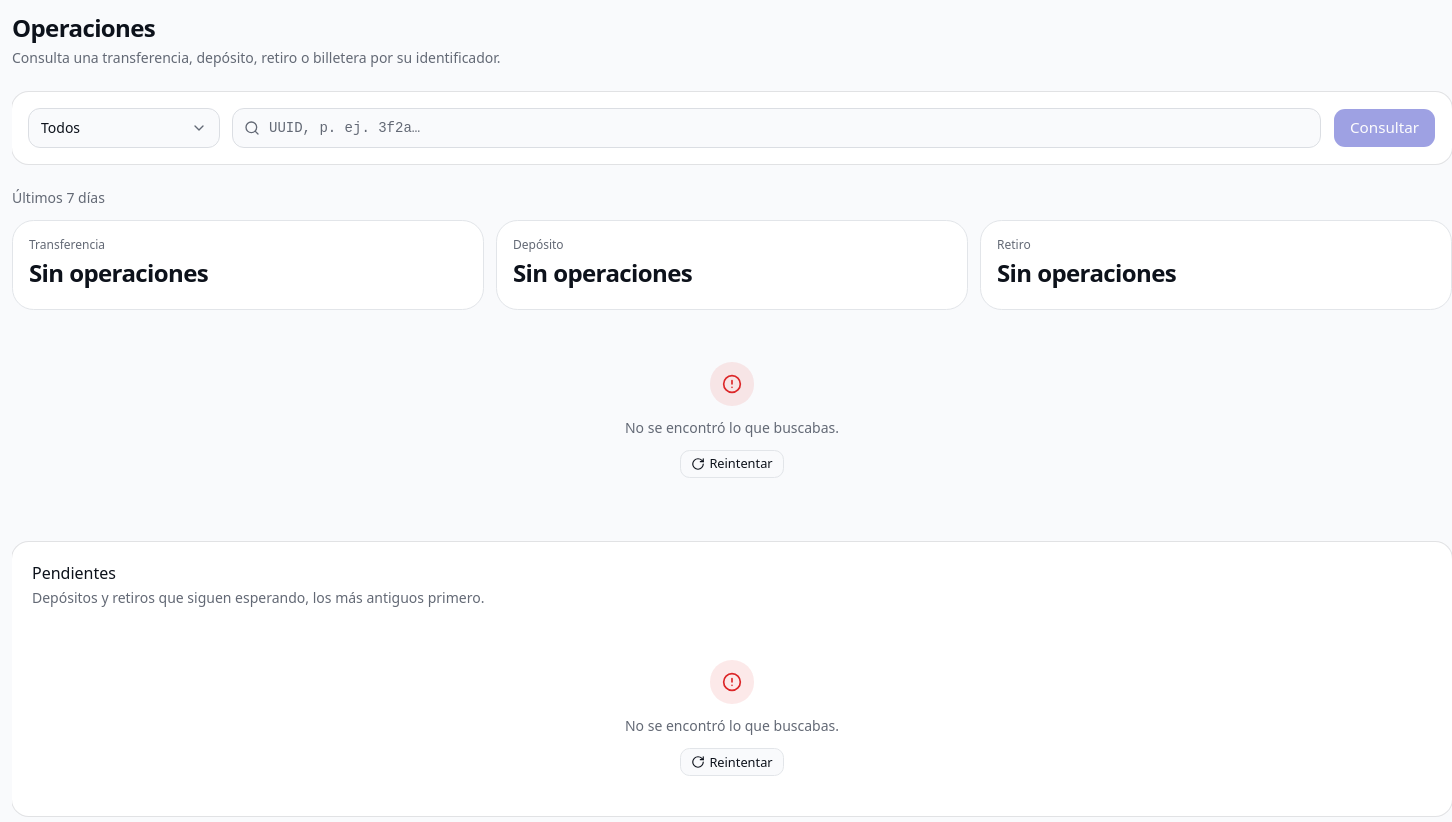
Scenario: AdminOperationsPage › looks an id up under every type unless a filter is chosen, and shows what it finds
The image size is (1452, 822).
Type "3f2a91bc-1111-4222-8333-444455556666" into the dropdown named "Identificador". click: point(776, 128)
box: x1=232 y1=108 x2=1321 y2=148
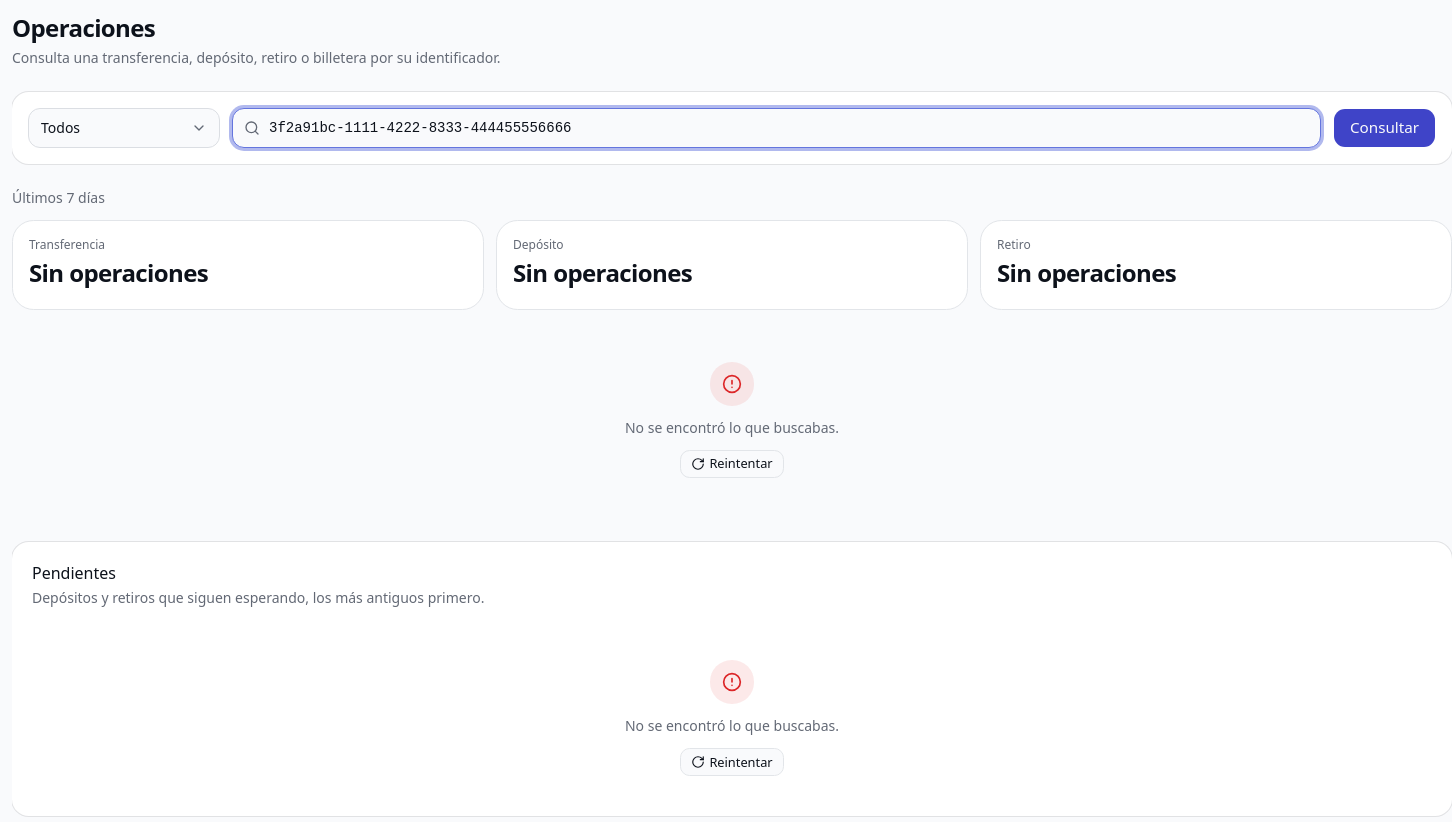
Click the button "Consultar". click: point(1384, 128)
box: x1=1333 y1=108 x2=1436 y2=148
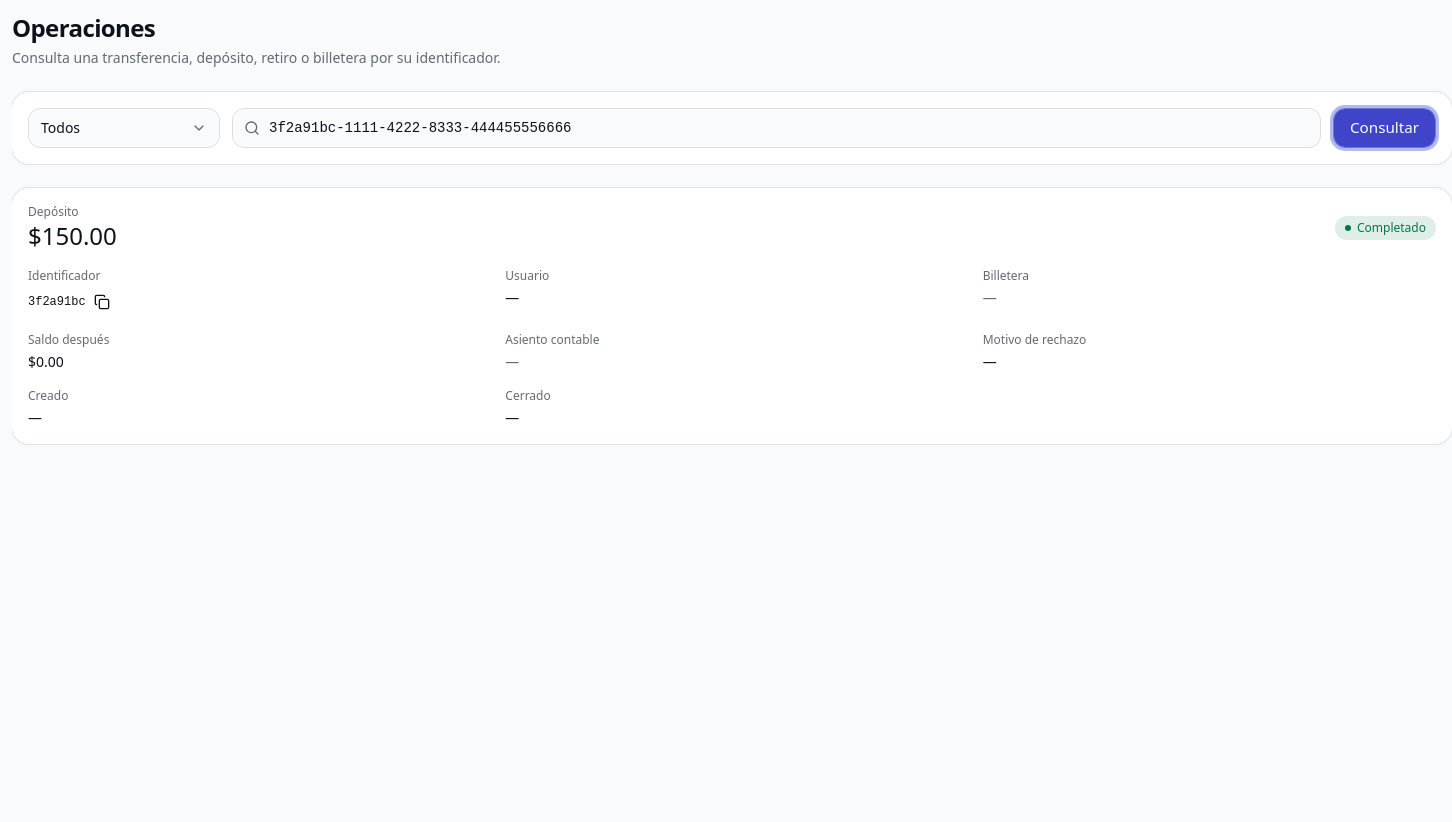
Check: the text "Depósito" is shown, box x1=28 y1=203 x2=79 y2=220
Check: the text "$150.00" is shown, box x1=28 y1=220 x2=117 y2=252
